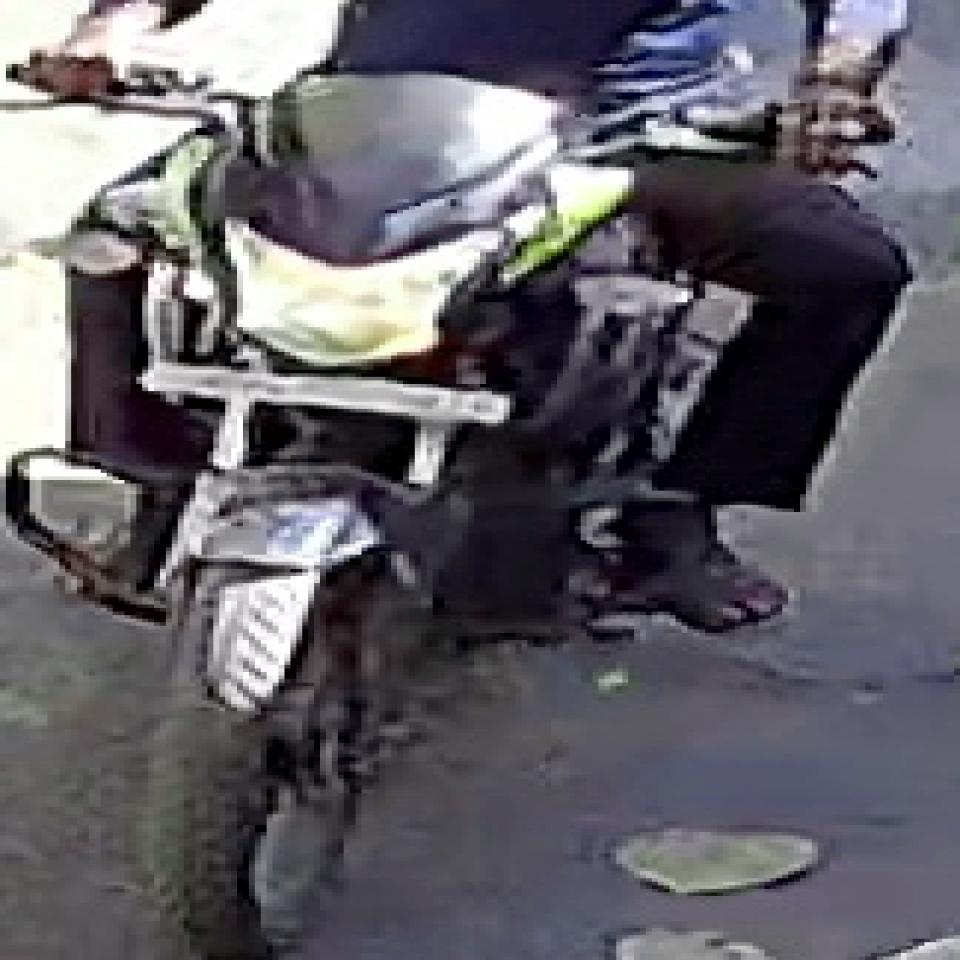head_light: (224, 226, 506, 369)
